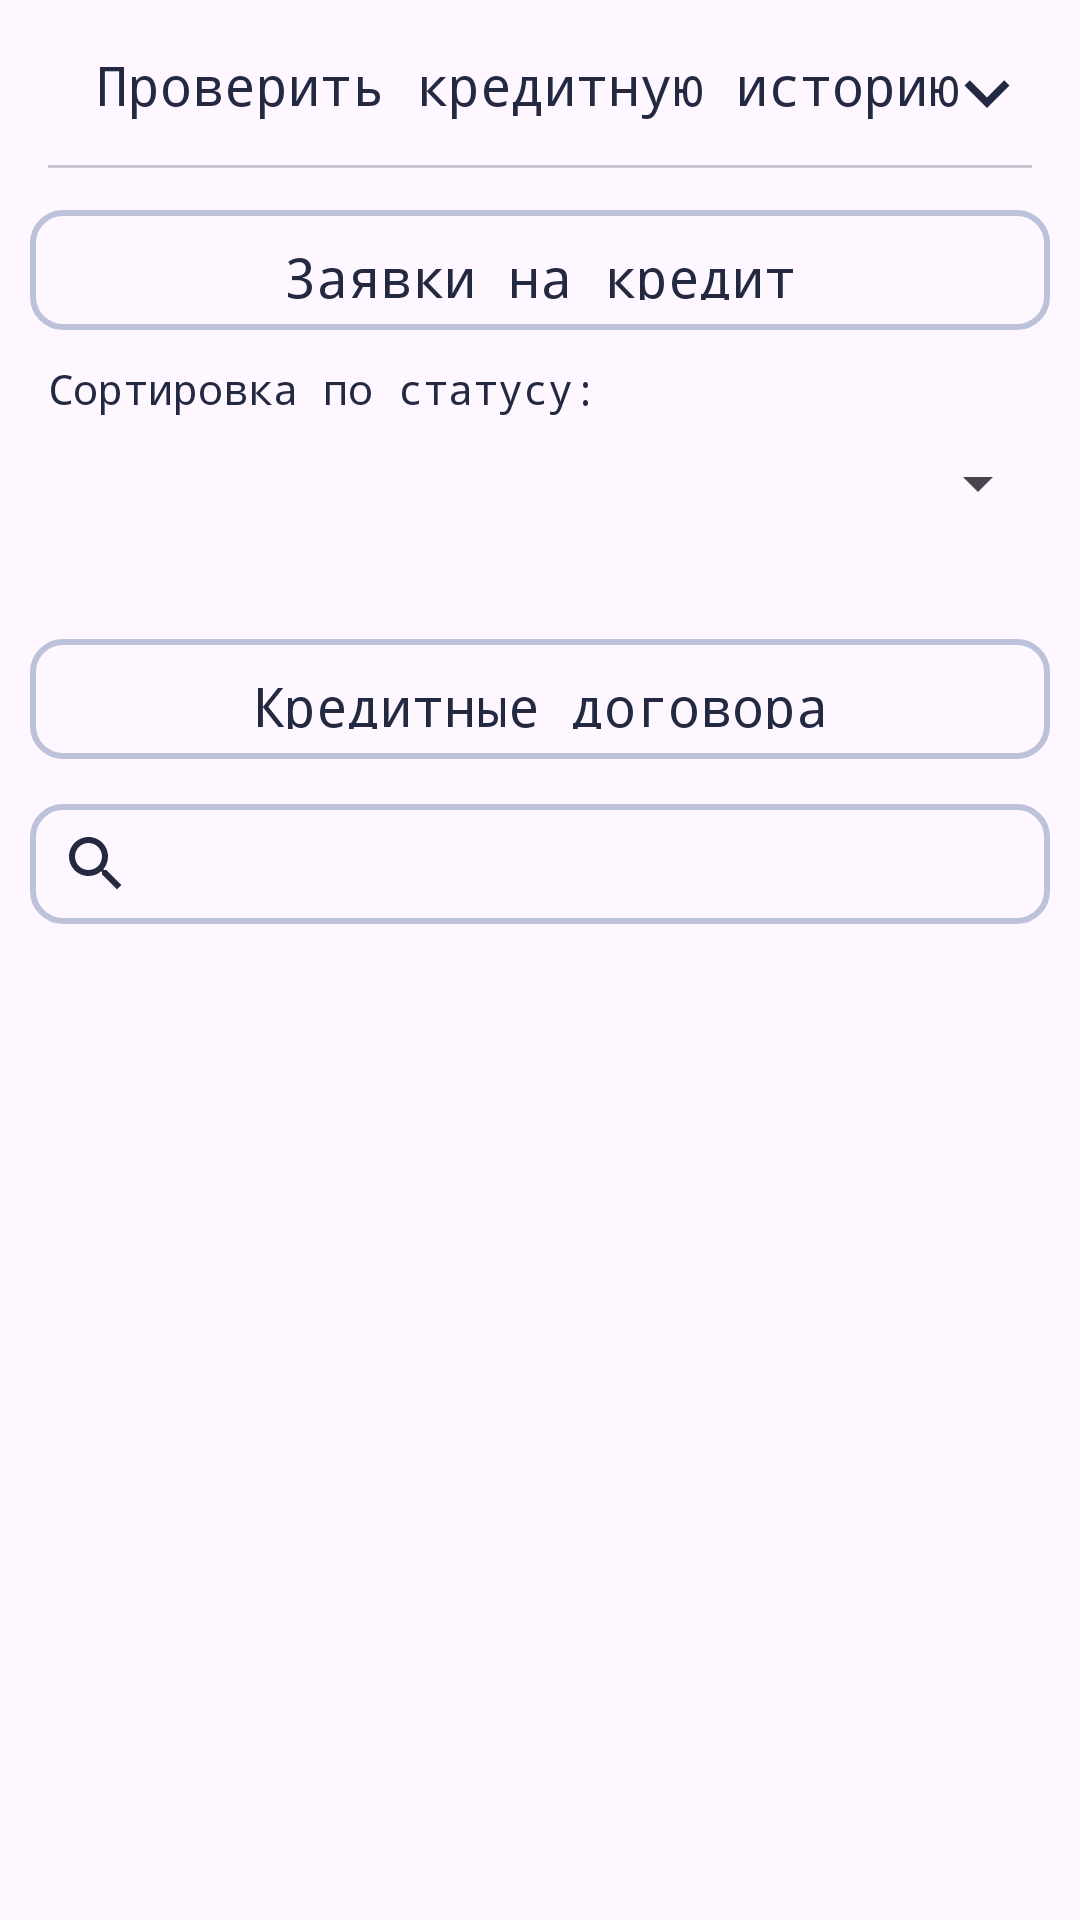

Where icons sit on this 1080*1920 app screen, as rect(x1, y1, x2, y2):
aarrow down: rect(964, 80, 1010, 108)
